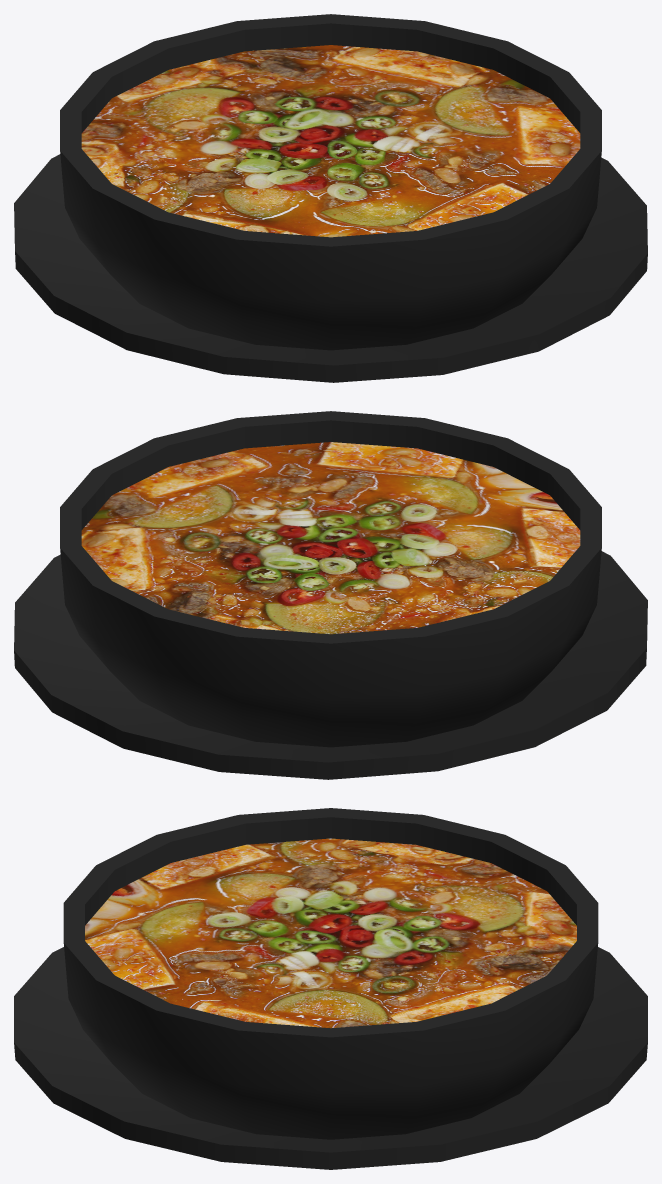
Rendered from chngkucjang.FBX.
The picture shows the model from 3 angles, top to bottom: view 1: azimuth 30°, elevation 25°; view 2: azimuth 150°, elevation 25°; view 3: azimuth 270°, elevation 25°; orthographic projection.
Parts seen in each view (by area): view 1: Cylinder002; view 2: Cylinder002; view 3: Cylinder002.
Part boxes in pixels (left/top/right/bottom): Cylinder002: left=14, top=14, right=647, bottom=382; Cylinder002: left=14, top=411, right=647, bottom=779; Cylinder002: left=14, top=808, right=647, bottom=1169.
Size of the model in its own units: 30.12 by 7.99 by 30.27.
